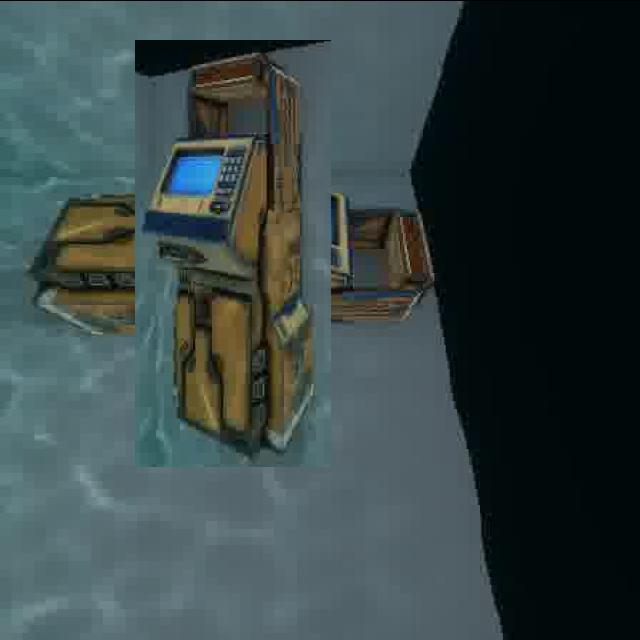Control Panel: (78, 96, 390, 408)
